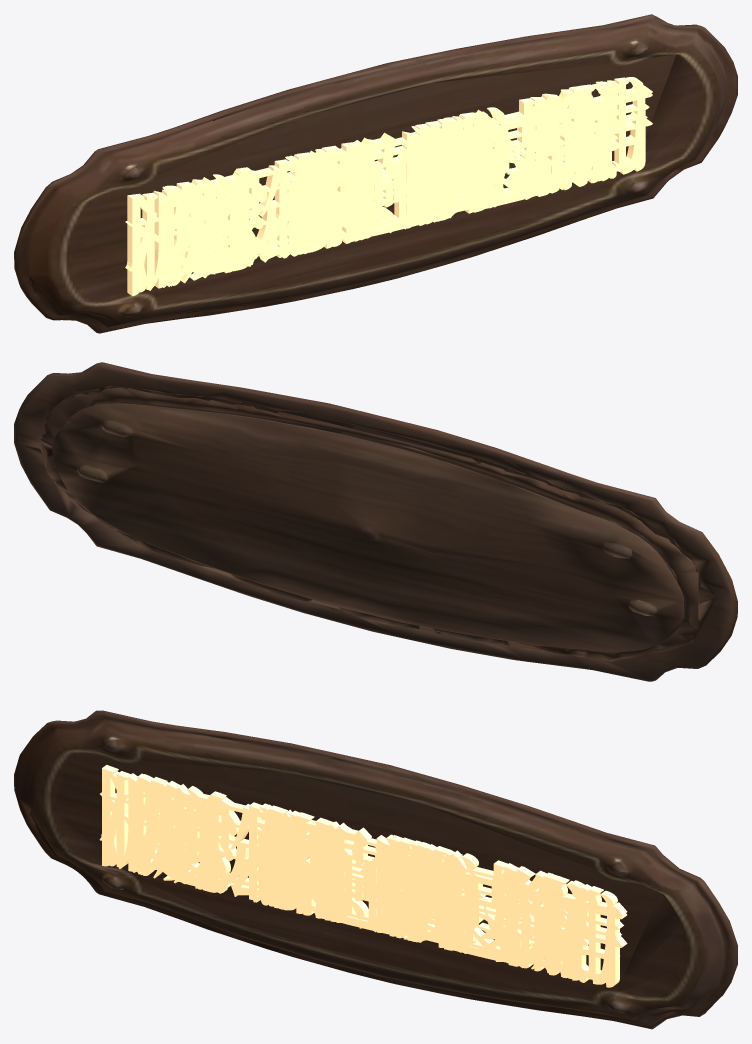
File: aholo-wooden-signs.glb
3 renders of one model, top to bottom at view 1: azimuth 30°, elevation 25°; view 2: azimuth 150°, elevation 25°; view 3: azimuth 330°, elevation 25°, orthographic.
Visible parts, largest first — view 1: board, lettering-workshop, lettering-bakery, lettering-parcel, lettering-bookshop, lettering-teahouse, lettering-guesthouse, lettering-ridge, lettering-market, lettering-mill, lettering-pier, lettering-inn (+2 smaller); view 2: board; view 3: board, lettering-workshop, lettering-parcel, lettering-bakery, lettering-teahouse, lettering-bookshop, lettering-guesthouse, lettering-mill, lettering-ridge, lettering-inn, lettering-pier, lettering-market (+2 smaller).
Part boxes in pixels (left/top/right/bottom): board: left=14, top=14, right=737, bottom=333; lettering-workshop: left=127, top=80, right=652, bottom=296; lettering-bakery: left=125, top=81, right=652, bottom=289; lettering-parcel: left=125, top=77, right=652, bottom=292; lettering-bookshop: left=170, top=89, right=615, bottom=286; lettering-teahouse: left=164, top=84, right=618, bottom=285; lettering-guesthouse: left=165, top=89, right=618, bottom=284; lettering-ridge: left=223, top=98, right=558, bottom=269; lettering-market: left=163, top=86, right=618, bottom=287; lettering-mill: left=162, top=86, right=618, bottom=286; lettering-pier: left=162, top=88, right=618, bottom=278; lettering-inn: left=164, top=116, right=497, bottom=272; board: left=14, top=362, right=737, bottom=681; board: left=14, top=710, right=737, bottom=1029; lettering-workshop: left=102, top=765, right=626, bottom=983; lettering-parcel: left=100, top=771, right=627, bottom=987; lettering-bakery: left=99, top=771, right=627, bottom=984; lettering-teahouse: left=133, top=774, right=588, bottom=980; lettering-bookshop: left=140, top=781, right=587, bottom=979; lettering-guesthouse: left=134, top=780, right=589, bottom=978; lettering-mill: left=132, top=773, right=589, bottom=977; lettering-ridge: left=192, top=791, right=526, bottom=968; lettering-inn: left=133, top=781, right=468, bottom=952; lettering-pier: left=134, top=779, right=589, bottom=977; lettering-market: left=133, top=777, right=588, bottom=982.
Bounding box in the file's own units: 2.52 × 0.72 × 0.1793.
2 materials, 1 textured.
